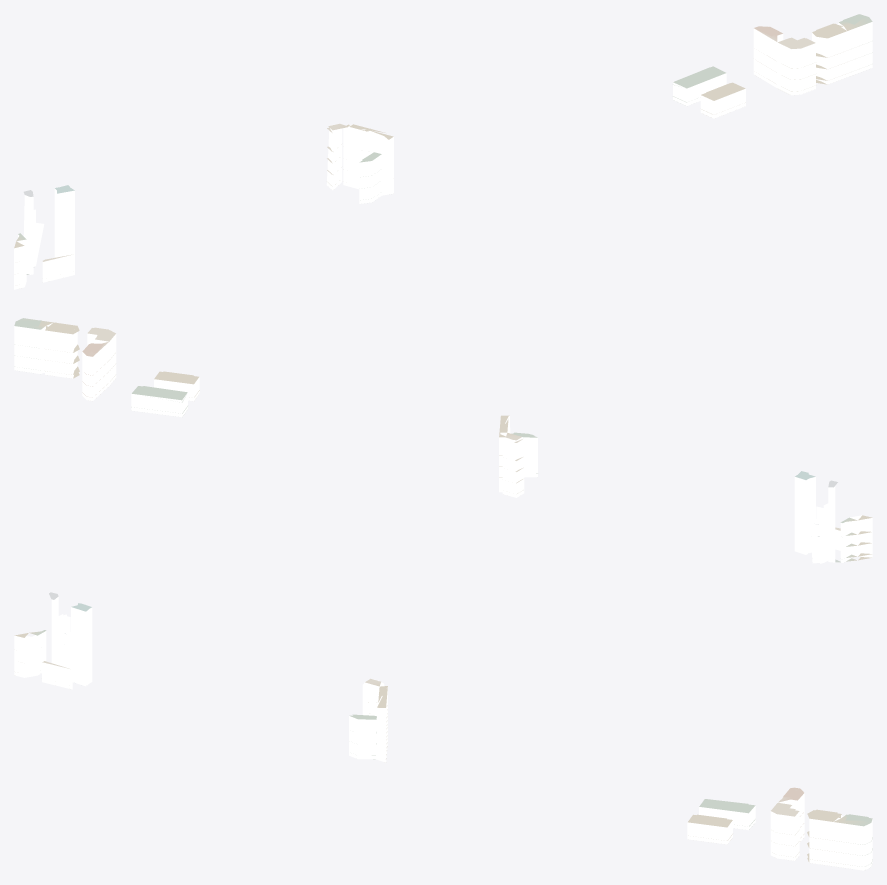
The model's file is buildings--10_-5-coarse.glb.
The picture shows the model from 3 angles, top to bottom: view 1: azimuth 30°, elevation 25°; view 2: azimuth 150°, elevation 25°; view 3: azimuth 330°, elevation 25°; orthographic projection. The views are drawn at different scales.
Visible parts, largest first — view 1: block_-10_-5_residential, block_-10_-5_roof, block_-10_-5_office; view 2: block_-10_-5_residential, block_-10_-5_roof, block_-10_-5_office; view 3: block_-10_-5_residential, block_-10_-5_roof, block_-10_-5_office.
Boxes of the visible parts, x1,y1,x2,y2 form: block_-10_-5_residential: [14, 22, 872, 289]; block_-10_-5_roof: [14, 14, 872, 274]; block_-10_-5_office: [23, 188, 74, 274]; block_-10_-5_residential: [14, 323, 872, 563]; block_-10_-5_roof: [14, 318, 872, 562]; block_-10_-5_office: [794, 477, 835, 562]; block_-10_-5_residential: [14, 614, 872, 870]; block_-10_-5_roof: [14, 592, 872, 867]; block_-10_-5_office: [51, 596, 92, 686].
Size of the model in its own units: 636 by 56.96 by 46.46.
